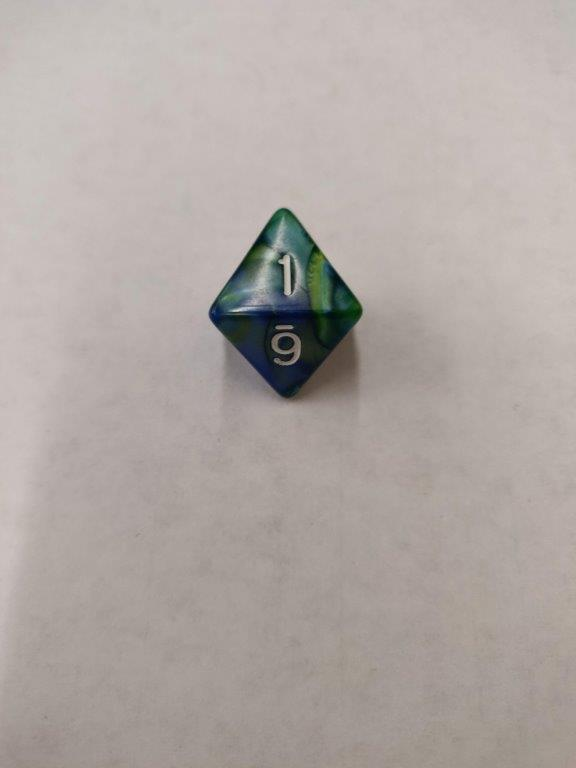d8-1: (205, 206, 362, 403)
